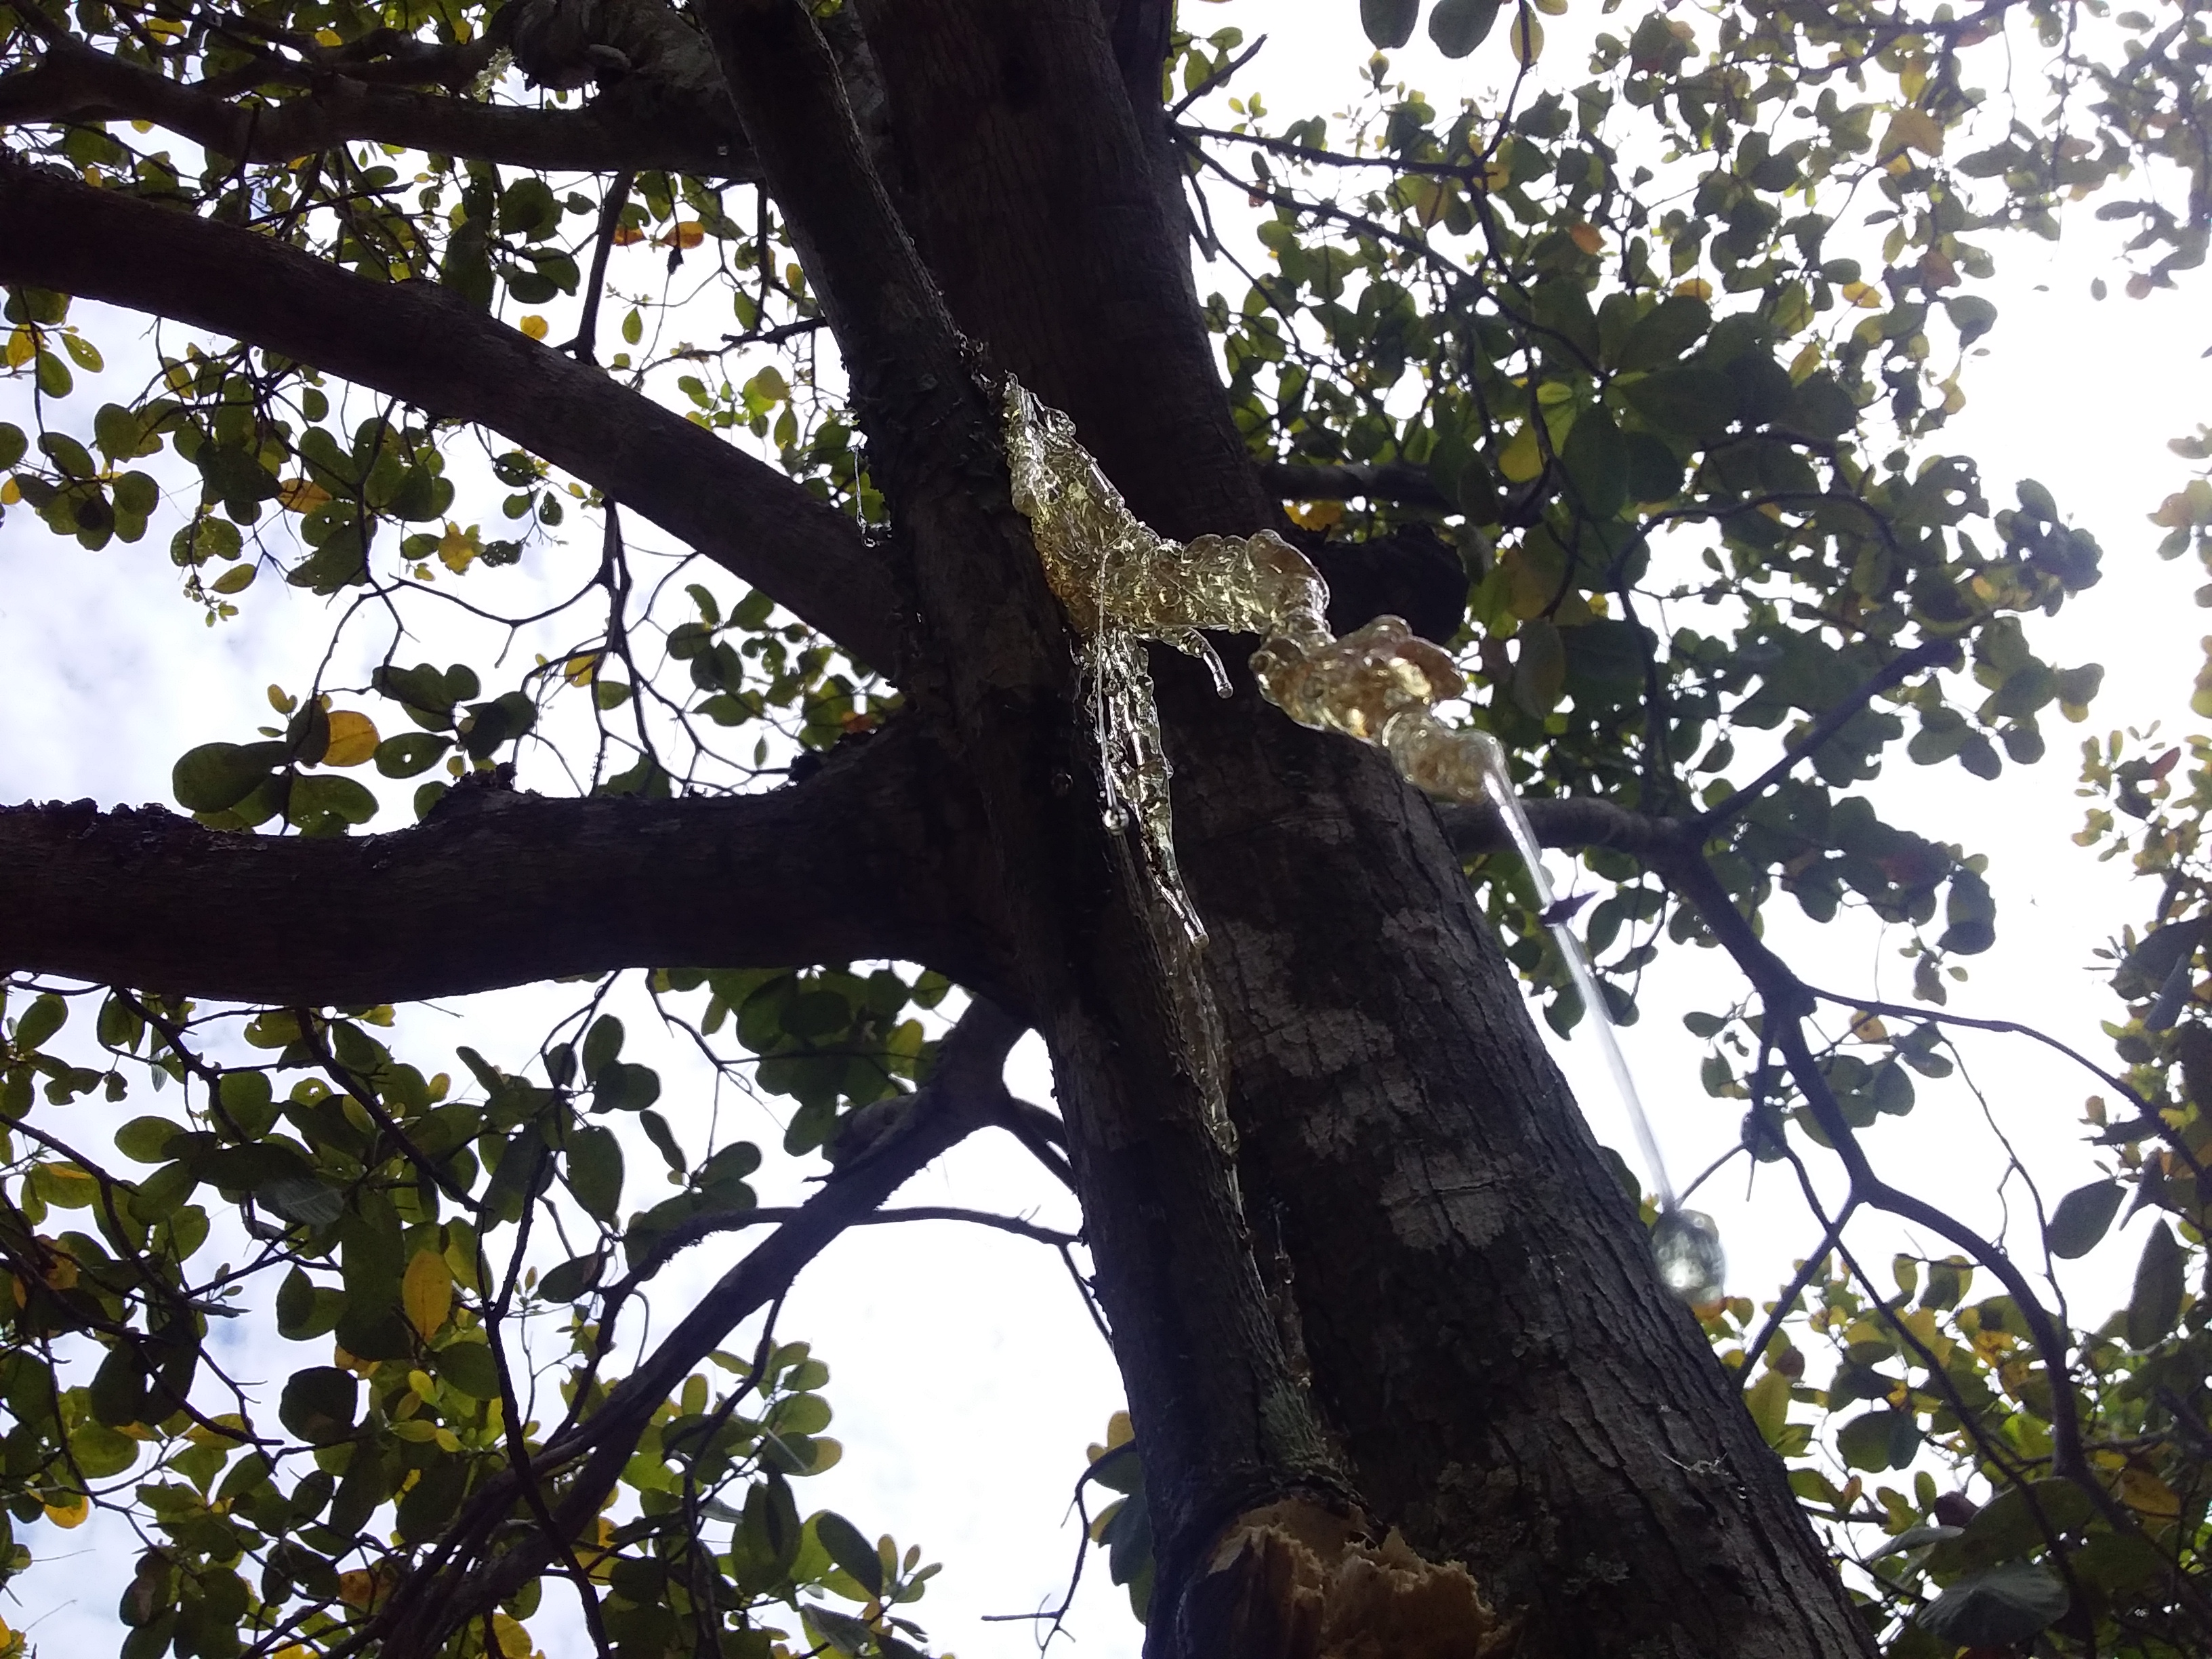Gommose: (970, 342, 1602, 931)
